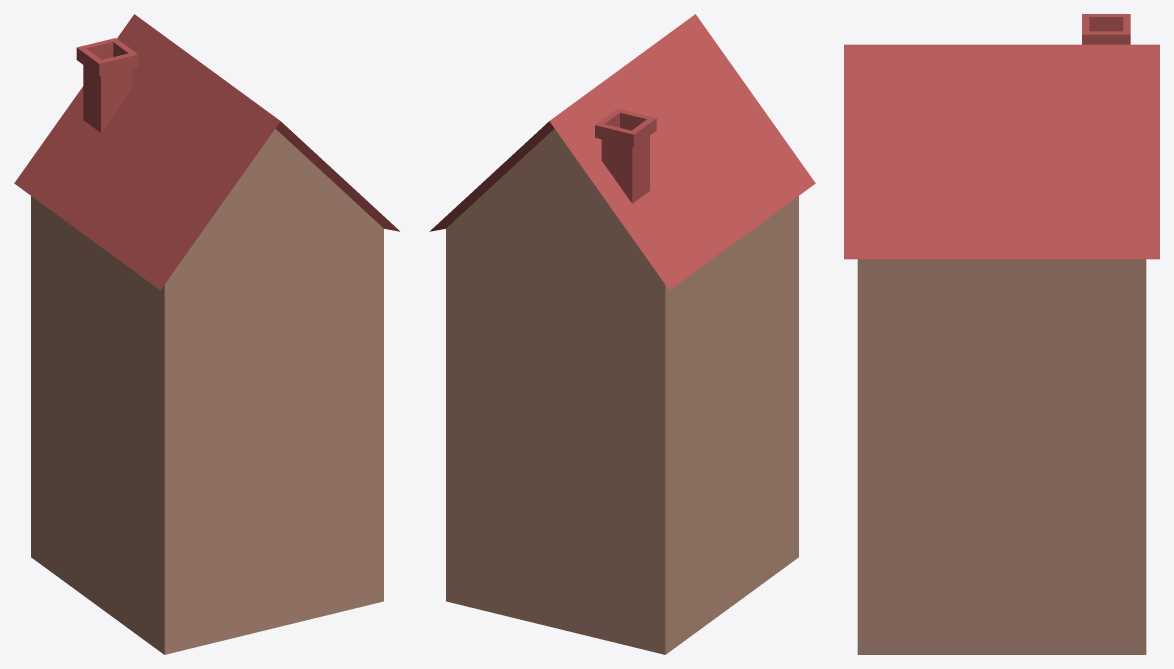
The picture shows the model from 3 angles, left to right: view 1: azimuth 30°, elevation 25°; view 2: azimuth 150°, elevation 25°; view 3: azimuth 270°, elevation 25°; orthographic projection. The views are drawn at different scales.
Parts seen in each view (by area): view 1: polySurface2; view 2: polySurface2; view 3: polySurface2.
Part boxes in pixels (x1=…): polySurface2: x1=14, y1=14, x2=399, y2=654; polySurface2: x1=430, y1=14, x2=815, y2=654; polySurface2: x1=844, y1=14, x2=1159, y2=654.
Size of the model in its own units: 7.84 by 15.96 by 8.27.
